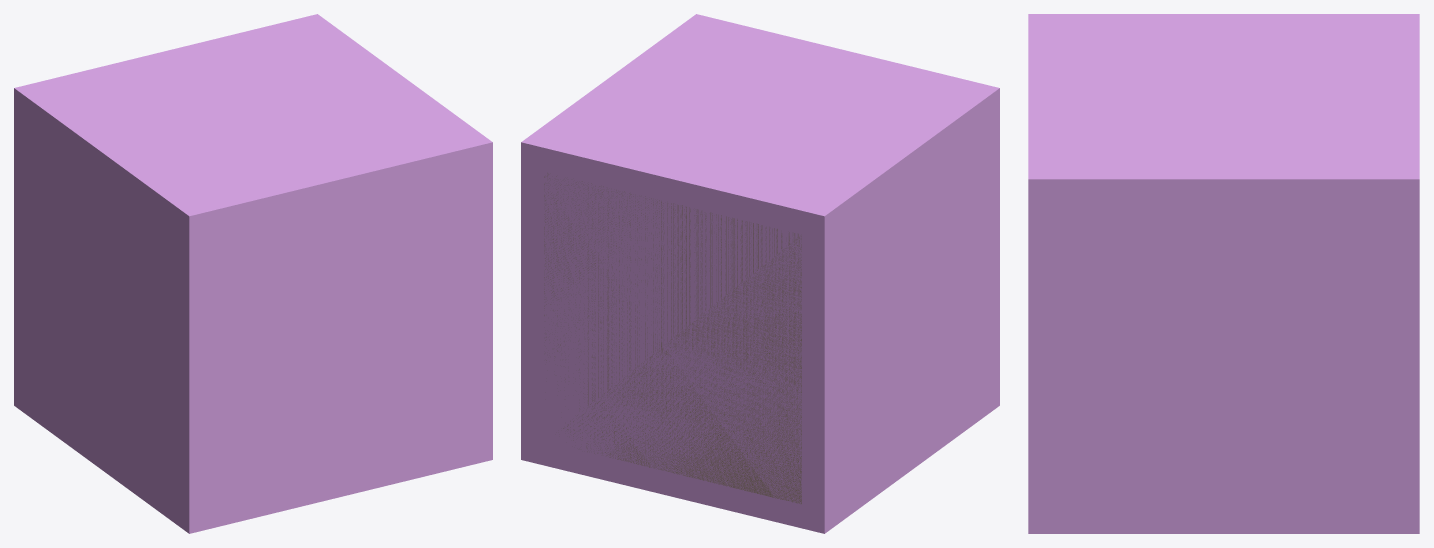
The model's file is 70_lumen_bud.glb.
The picture shows the model from 3 angles, left to right: view 1: azimuth 30°, elevation 25°; view 2: azimuth 150°, elevation 25°; view 3: azimuth 270°, elevation 25°; orthographic projection. The views are drawn at different scales.
Parts seen in each view (by area): view 1: Core; view 2: Core, Soil; view 3: Core.
Boxes of the visible parts, x1,y1,x2,y2 form: Core: (14,14,492,533); Core: (521,14,999,533); Soil: (544,173,801,503); Core: (1028,14,1419,533).
Size of the model in its own units: 1 by 1 by 1.
